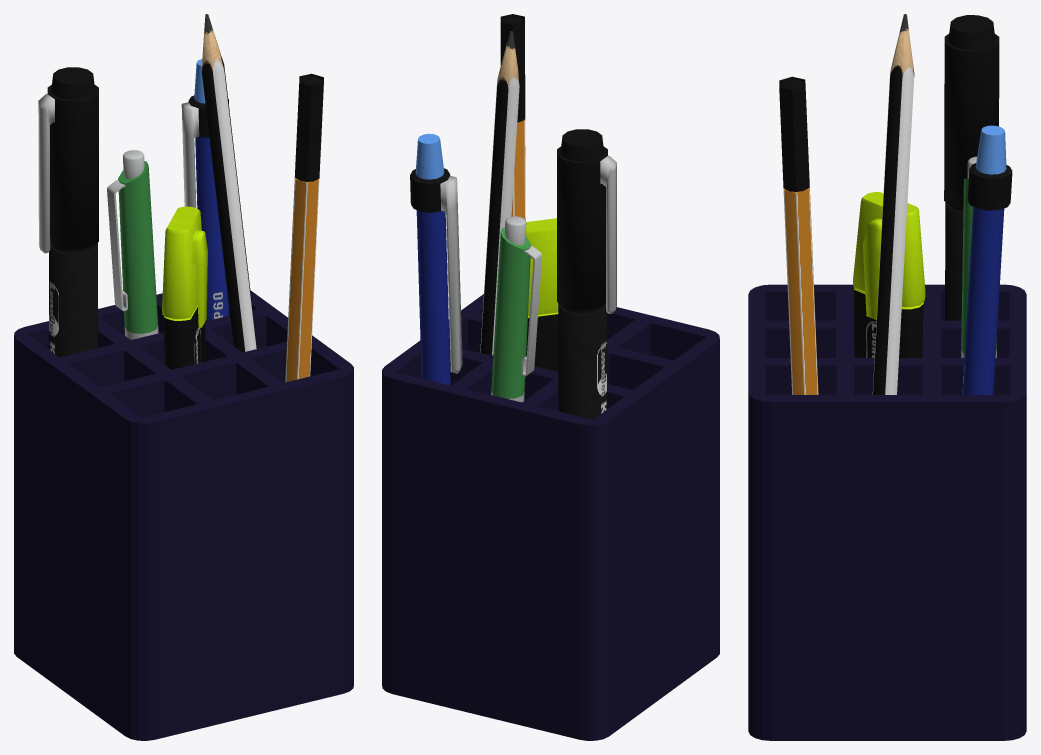
Rendered from 0410pencilcase.obj.
3 views of the same model, side by side, from view 1: azimuth 30°, elevation 25°; view 2: azimuth 150°, elevation 25°; view 3: azimuth 270°, elevation 25° (orthographic). The views are drawn at different scales.
Parts seen in each view (by area): view 1: Cube, Pen3Top, Pen5, Pen_4, Pen2, Pen3, Pen6, Pen1Top, Pen6Top, Pen1Main; view 2: Cube, Pen3Top, Pen2, Pen_4, Pen5, Pen3, Pen1Top, Pen6Top, Pen1Main, Pen6; view 3: Cube, Pen5, Pen2, Pen3Top, Pen6, Pen1Top, Pen6Top, Pen1Main, Pen3, Pen_4.
Boxes of the visible parts, x1,y1,x2,y2 form: Cube: [14, 290, 353, 740]; Pen3Top: [38, 67, 98, 253]; Pen5: [201, 14, 257, 352]; Pen_4: [107, 150, 158, 339]; Pen2: [181, 59, 229, 321]; Pen3: [49, 242, 97, 357]; Pen6: [285, 176, 319, 382]; Pen1Top: [162, 206, 207, 328]; Pen6Top: [295, 73, 323, 181]; Pen1Main: [163, 305, 205, 369]; Cube: [382, 294, 719, 740]; Pen3Top: [557, 129, 616, 313]; Pen2: [410, 133, 462, 385]; Pen_4: [491, 216, 542, 402]; Pen5: [480, 31, 519, 355]; Pen3: [558, 303, 606, 419]; Pen1Top: [526, 218, 558, 316]; Pen6Top: [500, 14, 525, 120]; Pen1Main: [526, 312, 558, 371]; Pen6: [511, 119, 525, 220]; Cube: [748, 284, 1026, 740]; Pen5: [872, 14, 914, 394]; Pen2: [962, 125, 1012, 394]; Pen3Top: [944, 15, 999, 208]; Pen6: [783, 187, 818, 394]; Pen1Top: [853, 191, 925, 319]; Pen6Top: [779, 76, 809, 191]; Pen1Main: [854, 288, 923, 357]; Pen3: [945, 202, 963, 320]; Pen_4: [961, 156, 996, 357].
Size of the model in its own units: 0.0738 by 0.2008 by 0.0738.
